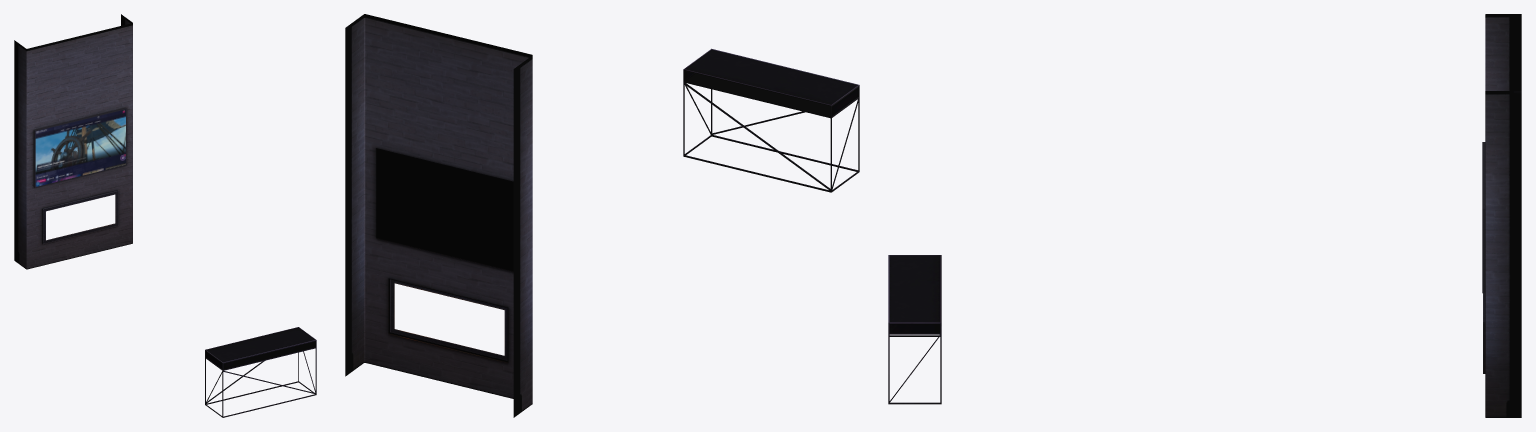
The model's file is Fireplace.obj.
The picture shows the model from 3 angles, left to right: view 1: azimuth 30°, elevation 25°; view 2: azimuth 150°, elevation 25°; view 3: azimuth 270°, elevation 25°; orthographic projection. The views are drawn at different scales.
Visible parts, largest first — view 1: Object_52; view 2: Object_52; view 3: Object_52.
Boxes of the visible parts, box(x1,y1,x2,y2) form: Object_52: box(14, 14, 316, 417); Object_52: box(345, 14, 859, 417); Object_52: box(888, 14, 1521, 417).
Bounding box in the file's own units: 1.85 × 3.49 × 6.13.
1 material, 1 textured.
